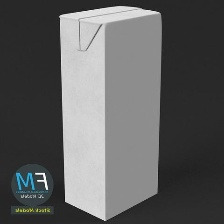carton: (49, 2, 168, 223)
